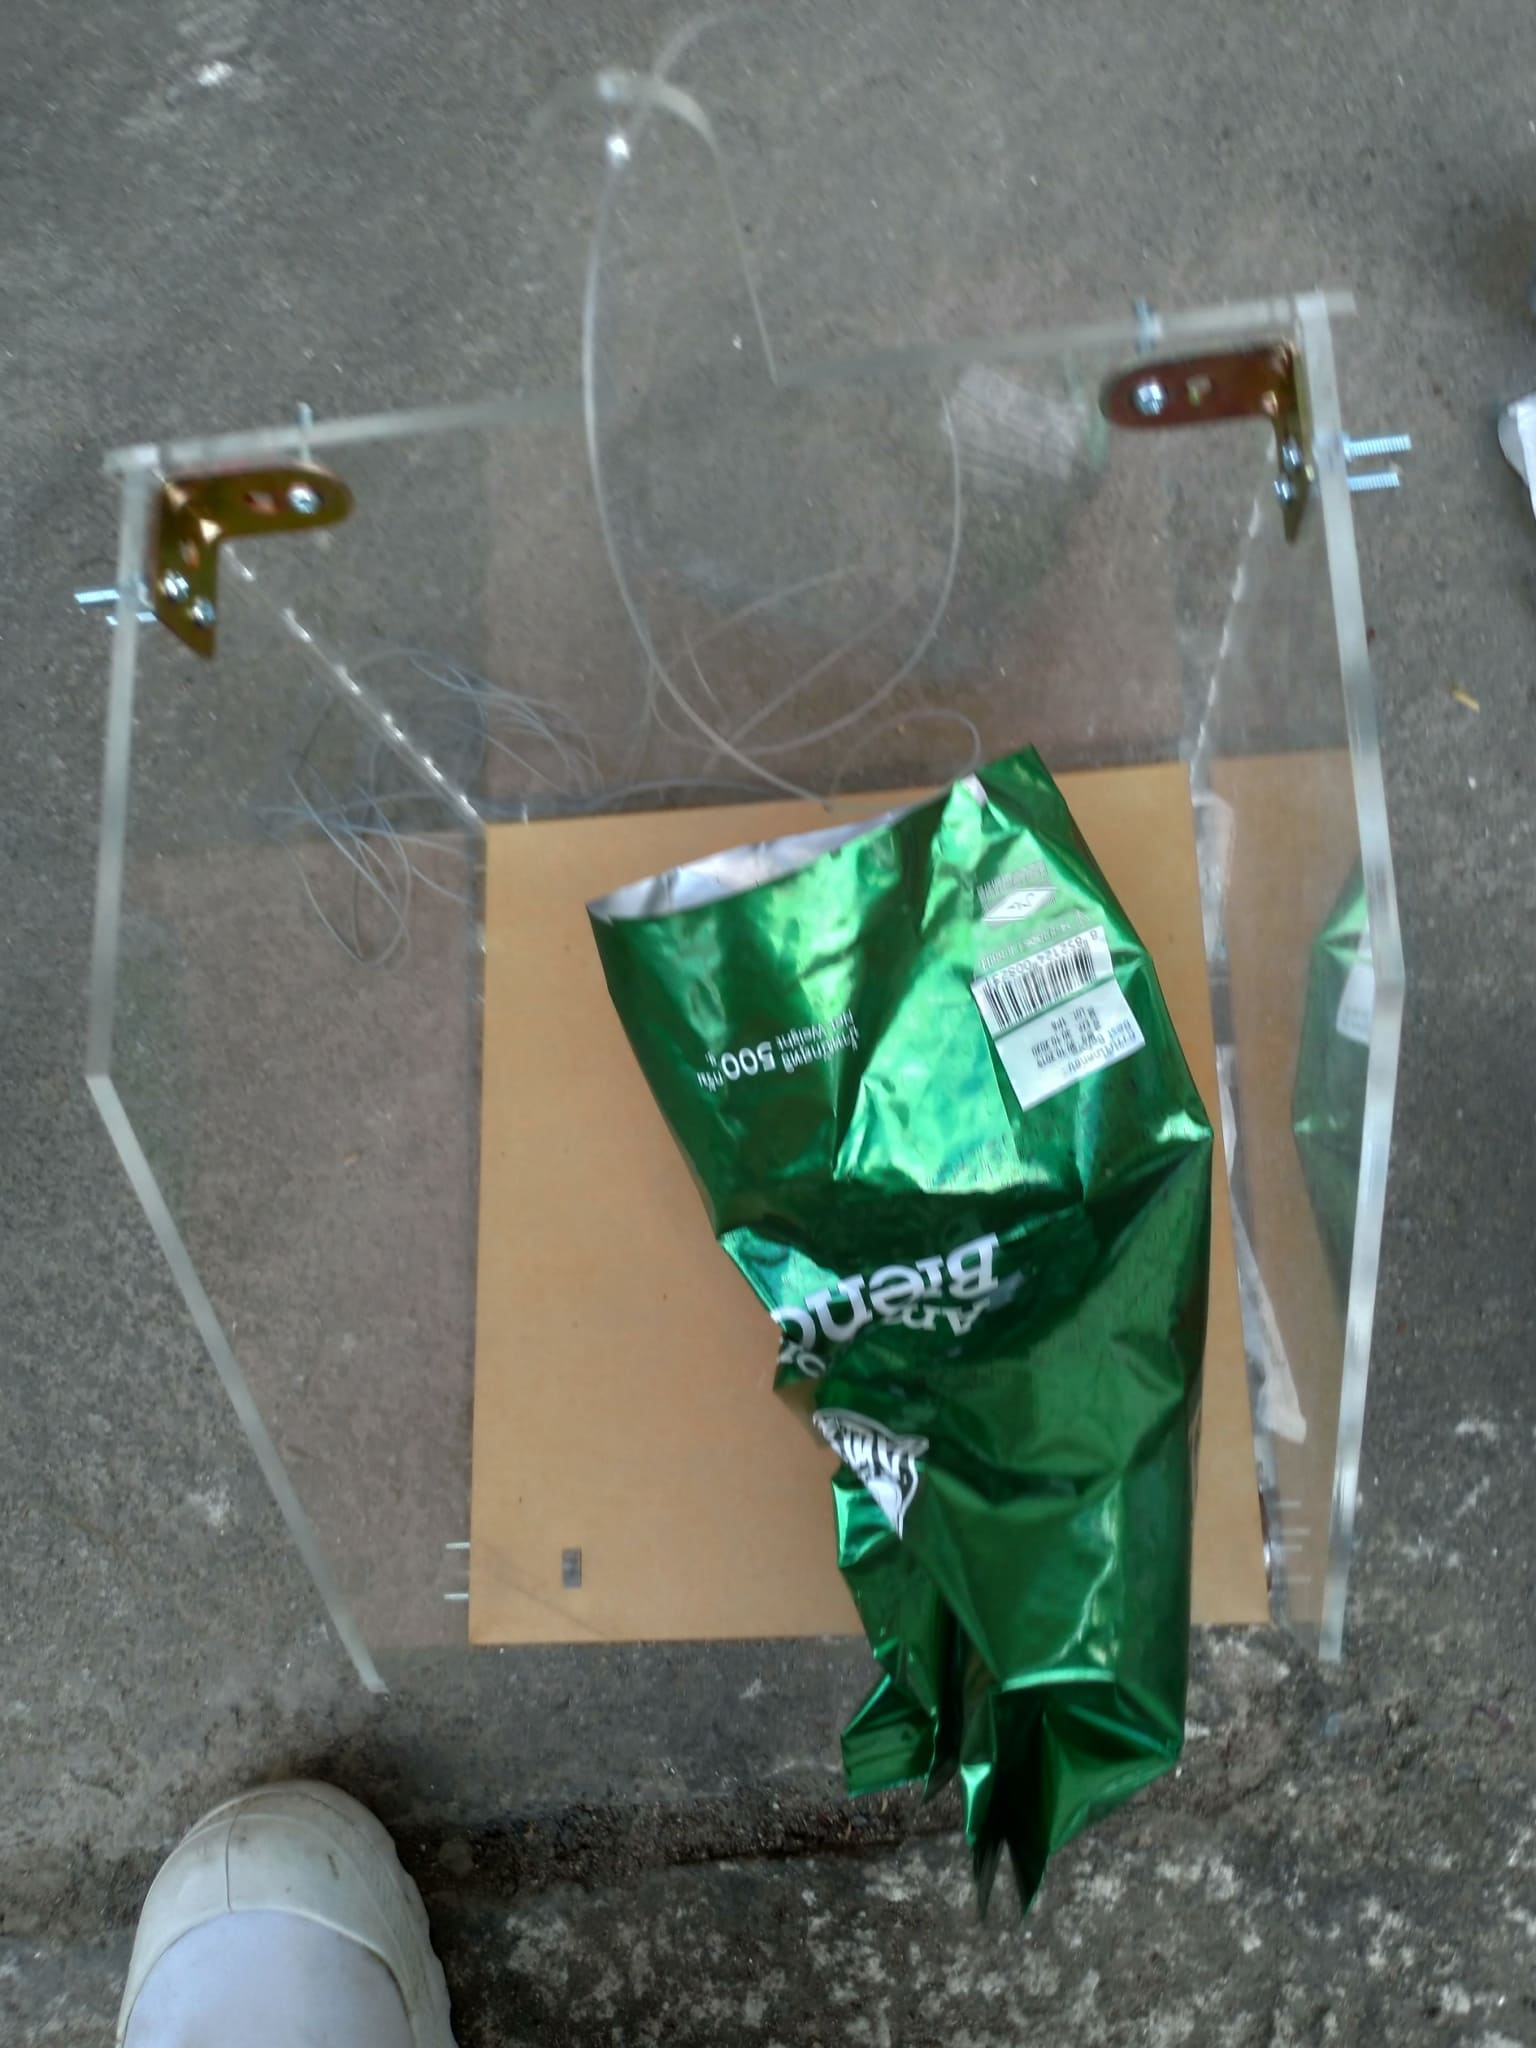Others: (573, 742, 1213, 1867)
